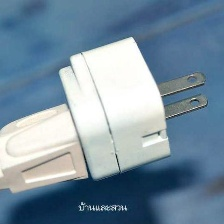three_eye_plug: (52, 27, 213, 185)
